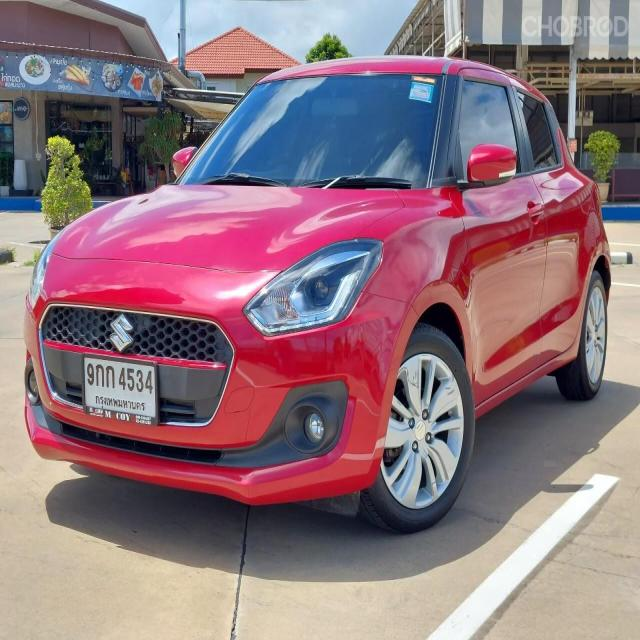license_plate: (79, 348, 162, 428)
